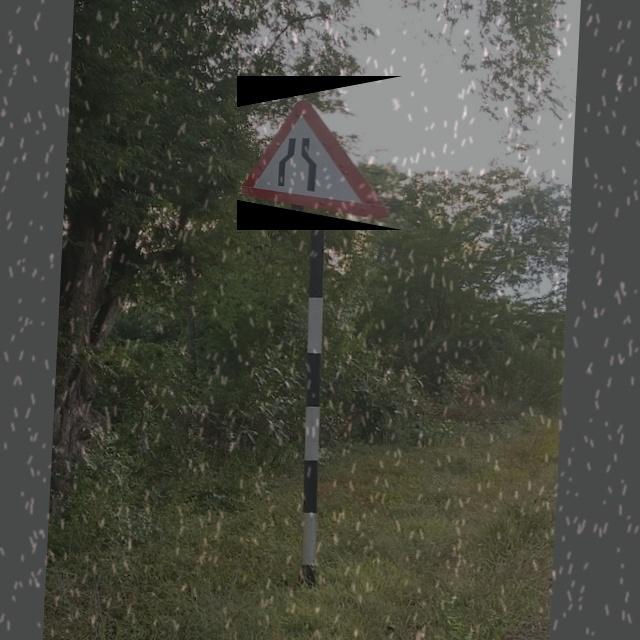Narrow_Road_Ahead: (237, 76, 403, 230)
